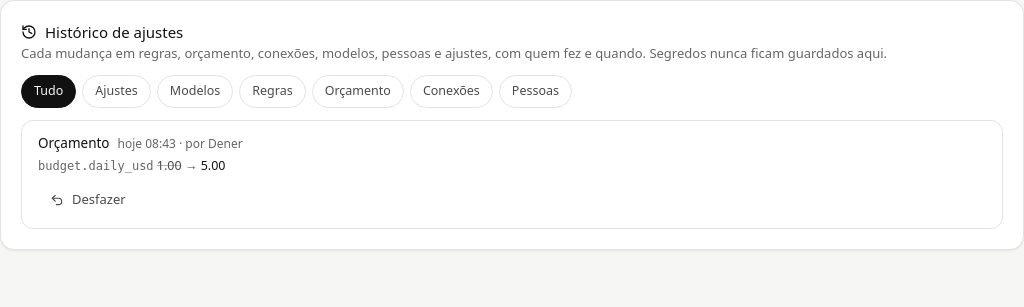
Test case: SettingsHistory › says why an undo was refused
Click the button "Desfazer".
click(88, 200)  # box [38,184,138,216]
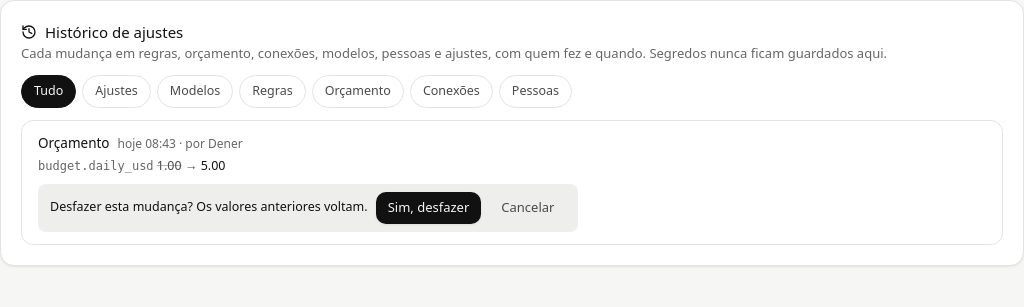
Click the button "Sim, desfazer".
click(428, 208)  # box [376,192,481,224]
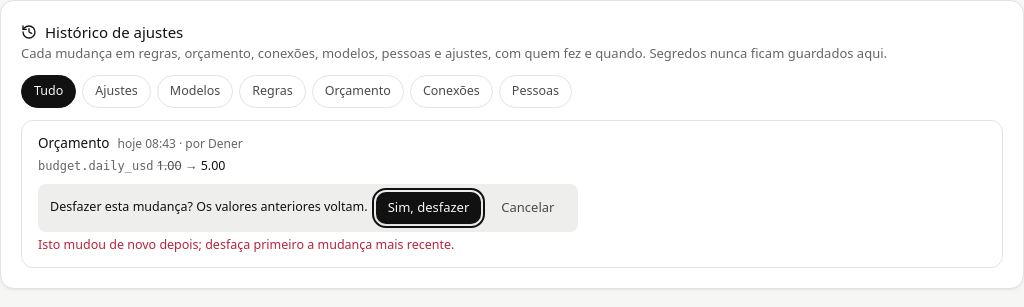
Expected: the message shows "desfaça primeiro a mudança mais recente", [38,236,454,253]
